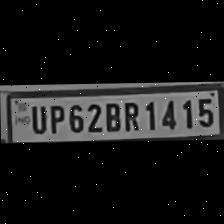1: (140, 98, 156, 131), (177, 96, 193, 128)
2: (84, 100, 103, 133)
4: (156, 97, 178, 129)
5: (192, 95, 214, 128)
6: (64, 100, 82, 132)
B: (102, 99, 120, 131)
P: (46, 101, 64, 133)
R: (120, 99, 140, 130)
U: (27, 103, 46, 134)
